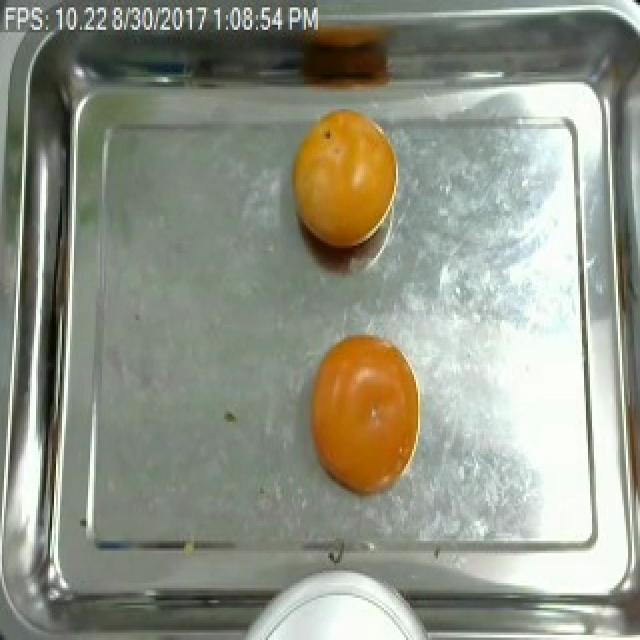Fruit: (294, 322, 434, 516), (278, 100, 402, 260)
